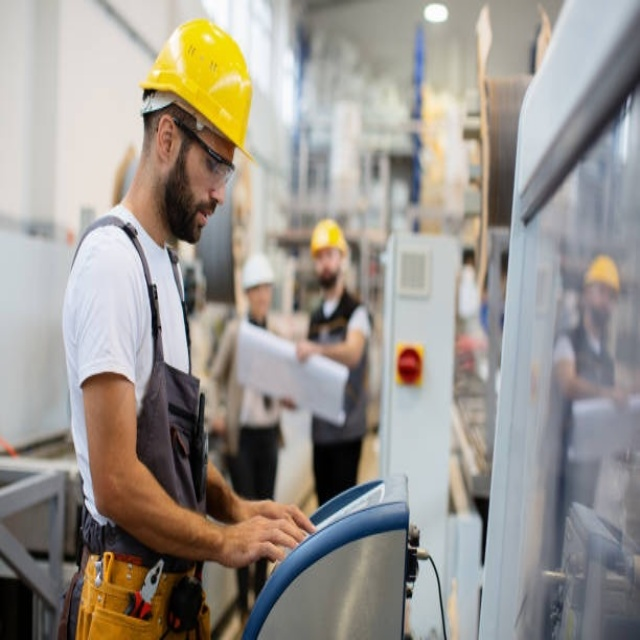Gafas: (166, 114, 236, 187)
Sin_guantes: (227, 486, 318, 569)
Sin_mascara: (183, 199, 216, 245)
